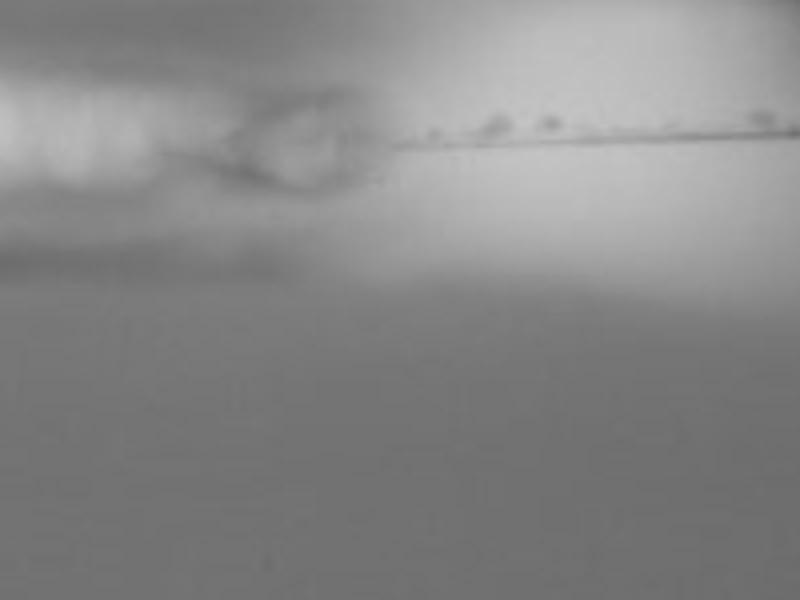defect: (747, 104, 774, 131), (482, 114, 508, 140), (542, 115, 563, 136), (427, 125, 440, 138)
